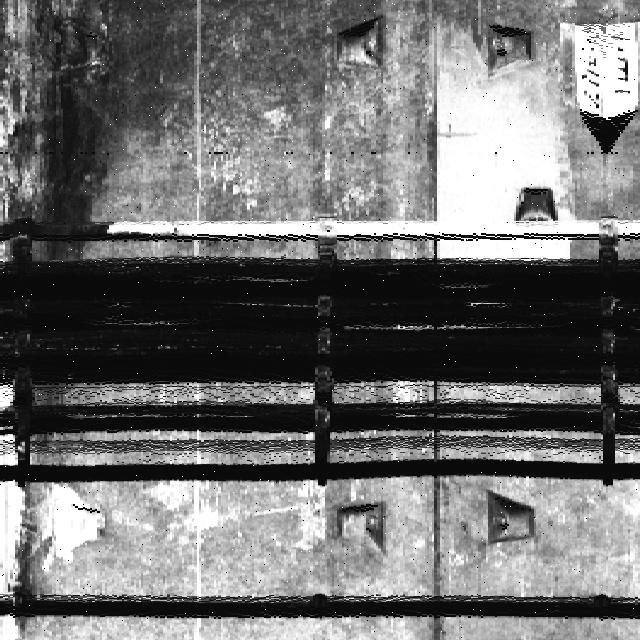leakage: (1, 0, 198, 259), (1, 379, 74, 639)
